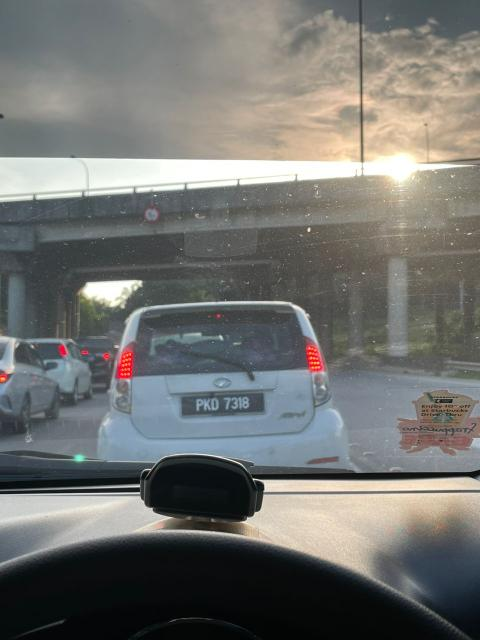License_Plate: (181, 390, 261, 420)
car: (94, 298, 354, 474)
